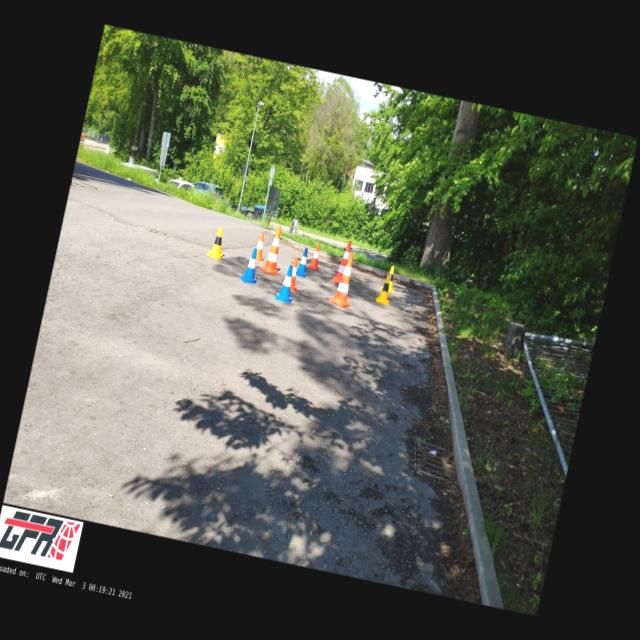blue_cone: (274, 262, 299, 304), (238, 246, 264, 284), (294, 246, 312, 278)
large_orange_cone: (328, 250, 360, 308), (258, 223, 290, 275), (331, 238, 352, 284)
orange_cone: (280, 254, 304, 292), (305, 242, 324, 270), (254, 232, 268, 261)
yellow_cone: (205, 226, 228, 260), (375, 273, 394, 305), (380, 264, 398, 292)
